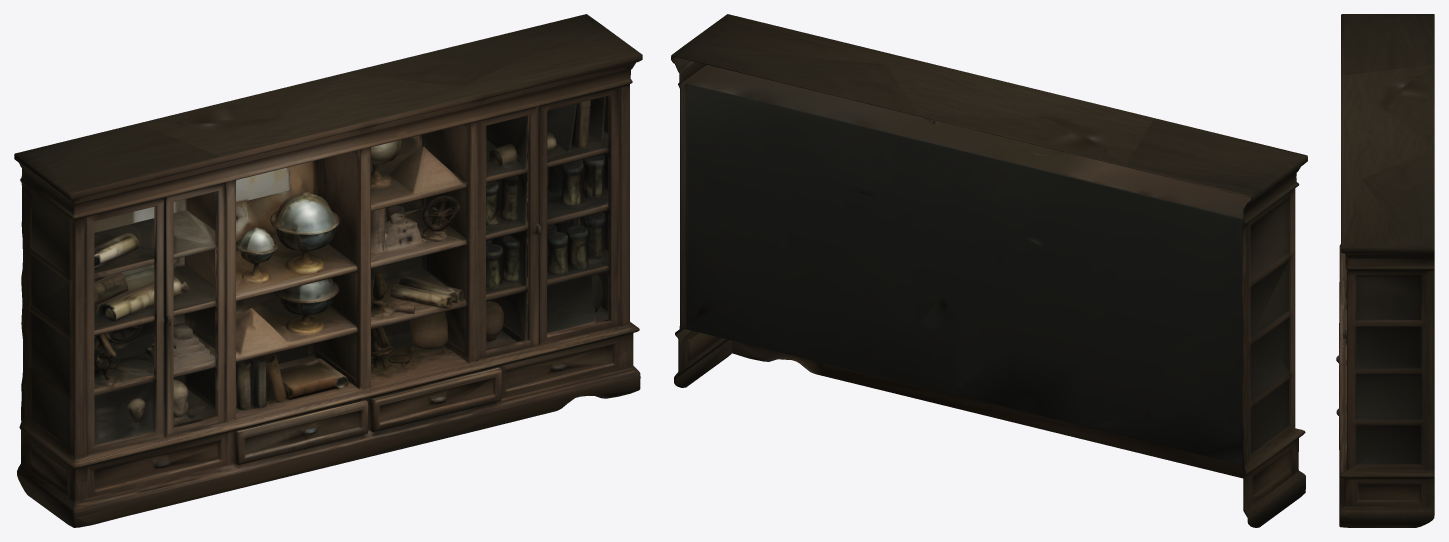
File: Tutrungbaydodungdiali.fbx
3 renders of one model, left to right at view 1: azimuth 30°, elevation 25°; view 2: azimuth 150°, elevation 25°; view 3: azimuth 270°, elevation 25°, orthographic. The views are drawn at different scales.
Parts seen in each view (by area): view 1: node_0; view 2: node_0; view 3: node_0.
Boxes of the visible parts, x1,y1,x2,y2 form: node_0: (14,14,642,527); node_0: (671,14,1307,527); node_0: (1336,14,1434,527).
Size of the model in its own units: 99.99 by 55.93 by 17.76.
Materials: 1 (1 with a texture image).
